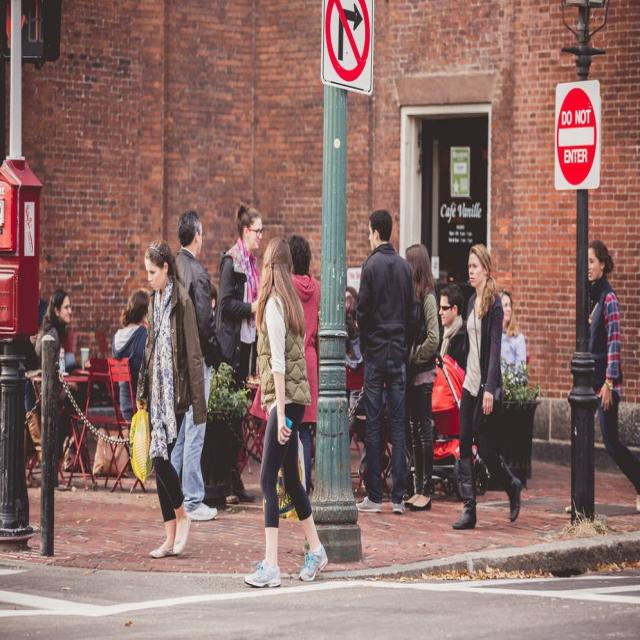body: (241, 233, 330, 590), (127, 239, 211, 562), (449, 241, 527, 533), (562, 238, 640, 516), (161, 210, 226, 524), (350, 207, 413, 516), (212, 197, 265, 505), (396, 240, 442, 514), (286, 234, 322, 496), (34, 288, 82, 458), (111, 290, 151, 422), (22, 286, 46, 465), (495, 287, 530, 386), (438, 283, 470, 373), (345, 288, 363, 413), (209, 281, 219, 336)
